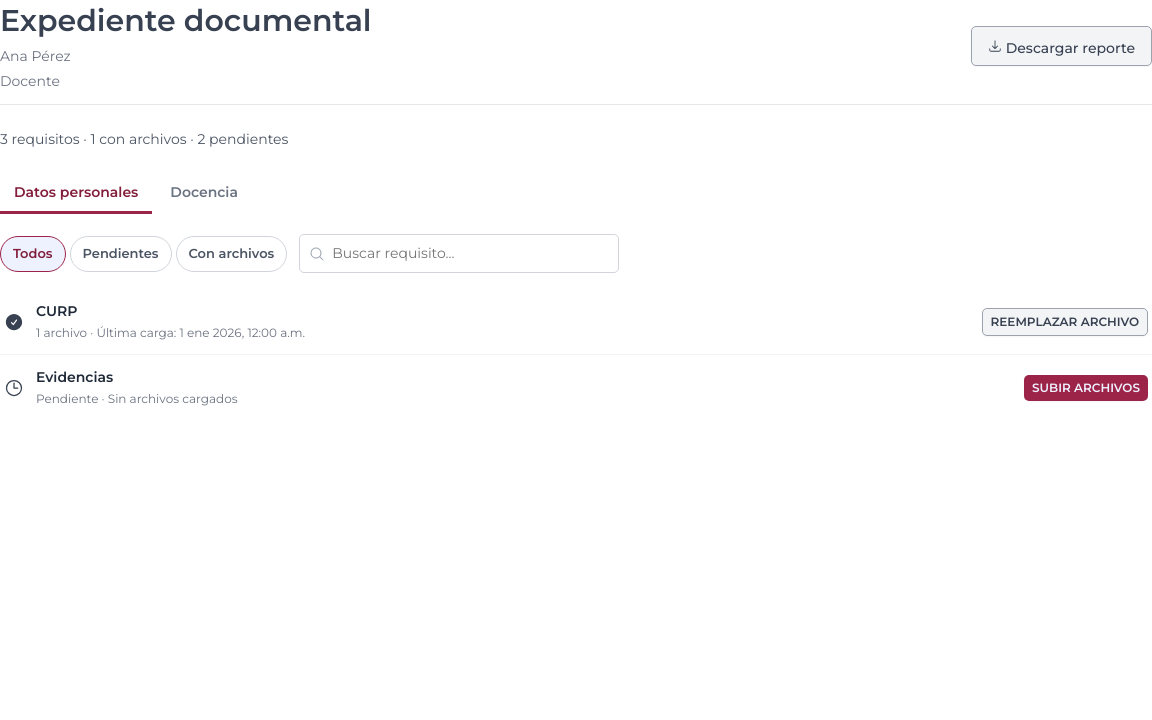
Test: Abrir y cerrar el drawer › el botón de cerrar (X) cierra el drawer cuando no hay selección pendiente
This screenshot has width=1152, height=720.
Step 1. Click the button "Subir archivos" → (1086, 388), box x1=1024 y1=374 x2=1148 y2=400
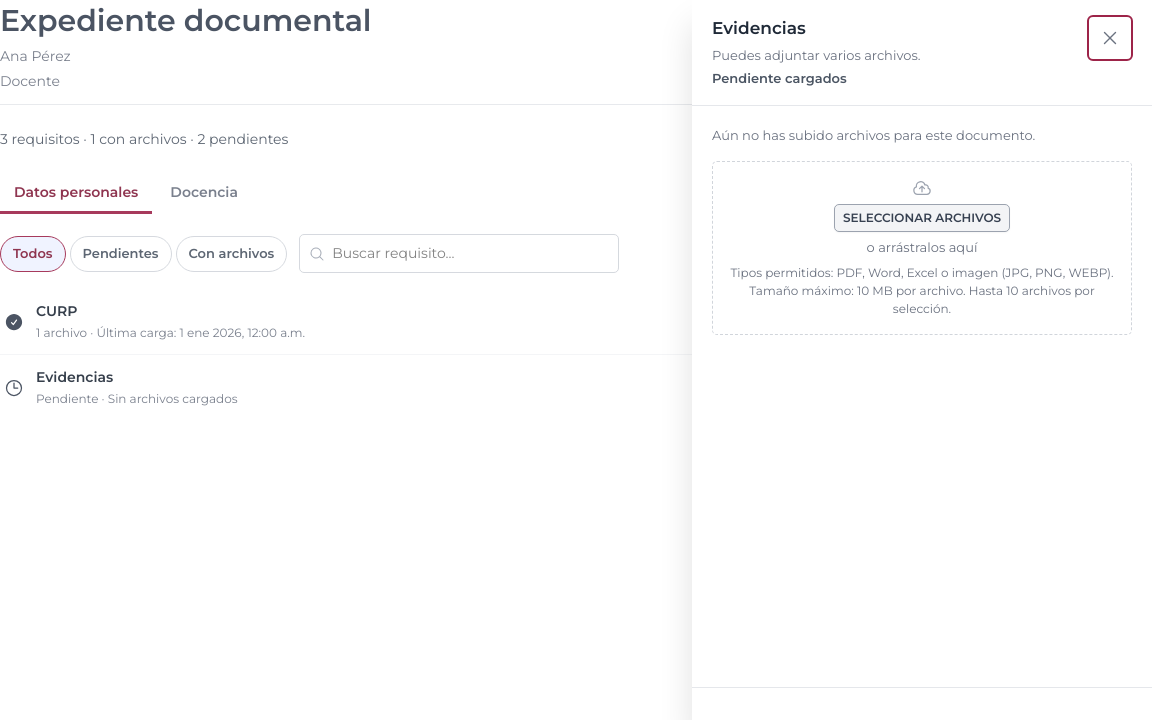
Step 2. Click the button named "Cerrar" → (1110, 38), box x1=1088 y1=16 x2=1132 y2=60
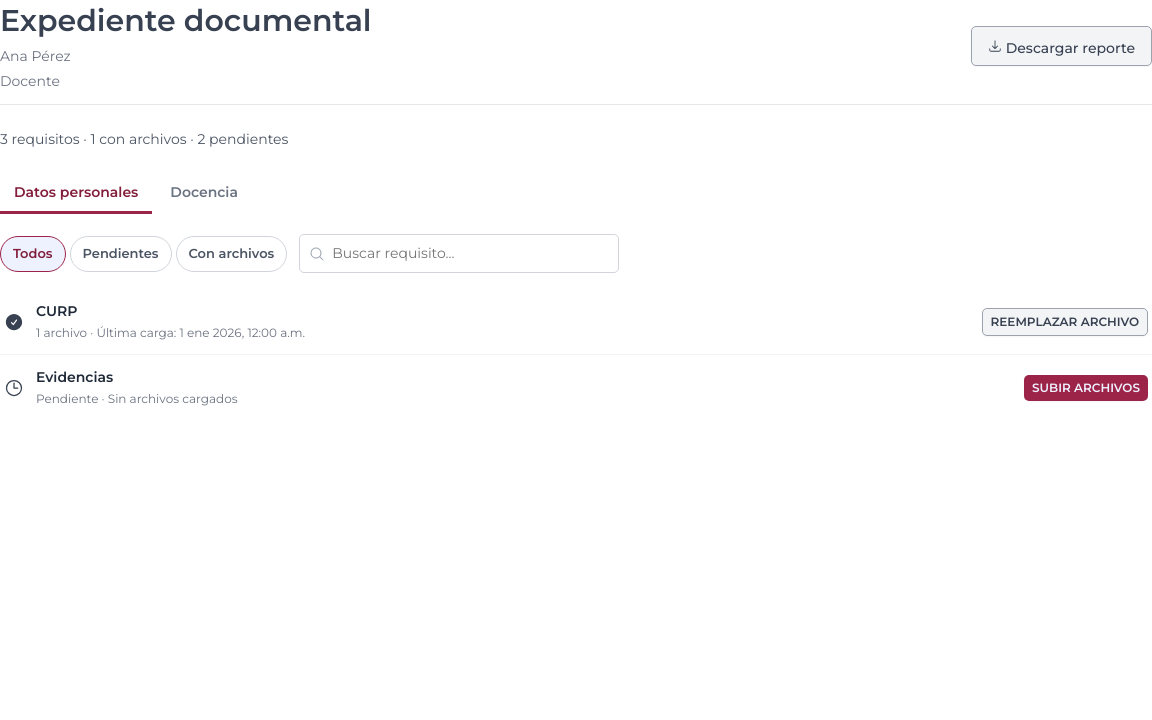
Result: the dialog is gone
